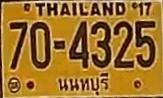0: (30, 21, 50, 68)
2: (113, 20, 133, 67)
3: (90, 21, 110, 67)
4: (69, 20, 88, 67)
5: (134, 20, 154, 67)
7: (9, 21, 27, 69)
NBI: (54, 71, 112, 96)
